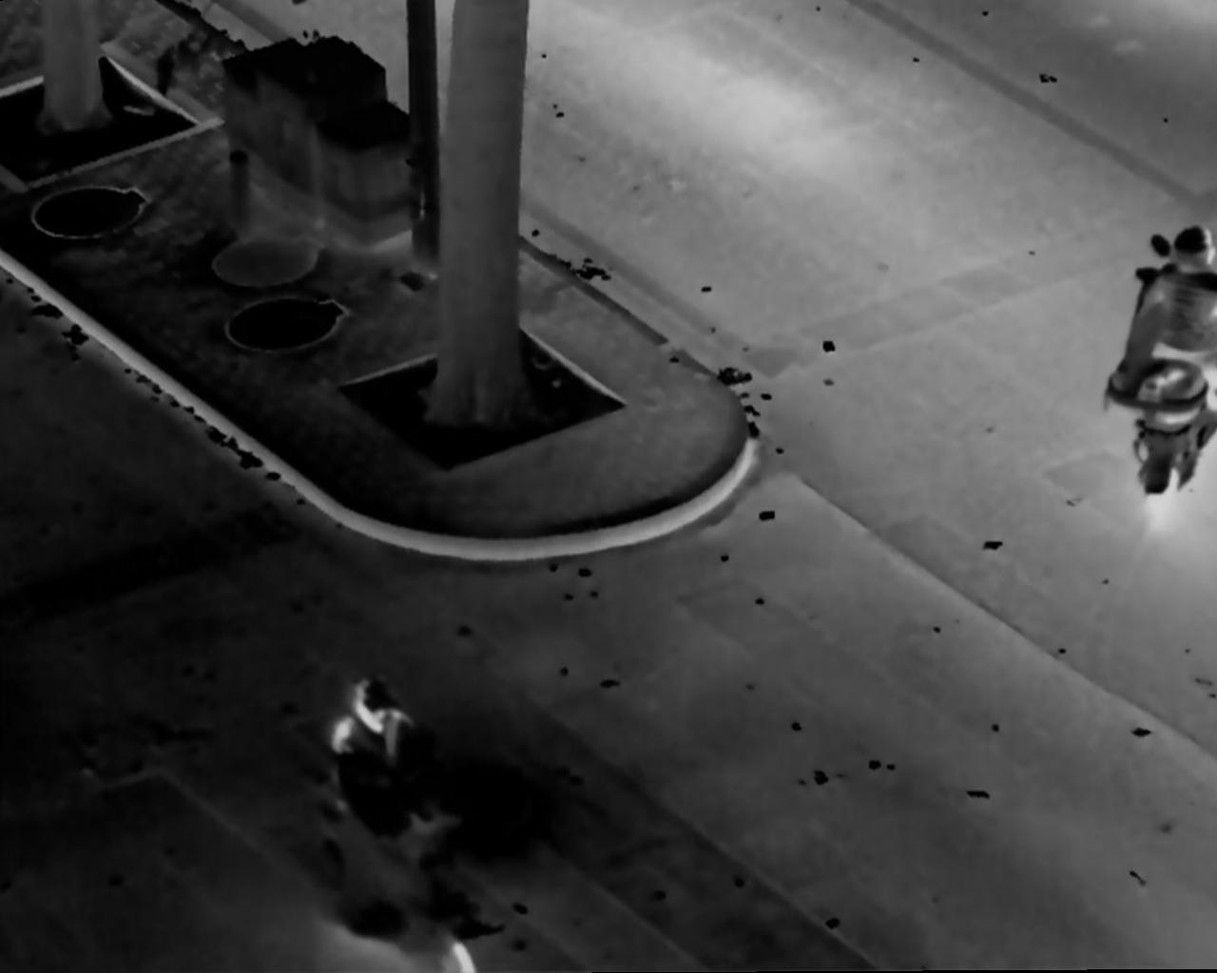person: (1111, 227, 1217, 457), (322, 673, 421, 906)
